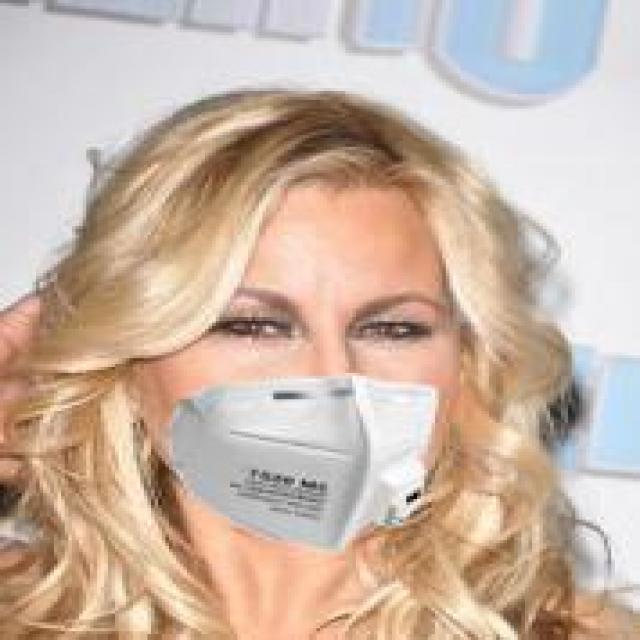mask: (87, 108, 558, 554)
